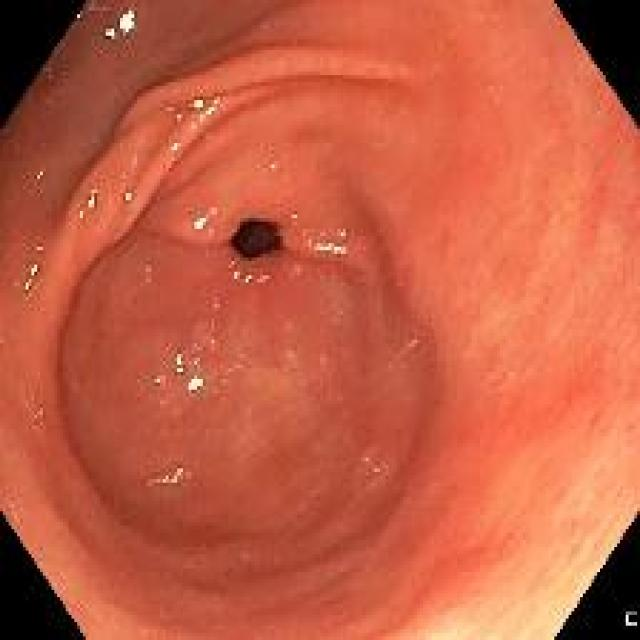blur: (408, 8, 639, 639), (111, 154, 376, 513)
bubbles: (24, 384, 46, 441), (402, 332, 421, 360)
contrast: (230, 216, 282, 261)
specularity: (159, 96, 222, 154), (224, 260, 274, 292), (308, 224, 351, 259), (103, 10, 141, 47), (149, 463, 195, 490), (192, 205, 215, 229), (78, 194, 99, 220), (24, 264, 41, 293), (185, 376, 204, 395), (172, 354, 186, 378), (285, 206, 300, 227), (122, 191, 138, 209), (266, 152, 278, 174), (154, 372, 166, 387)
